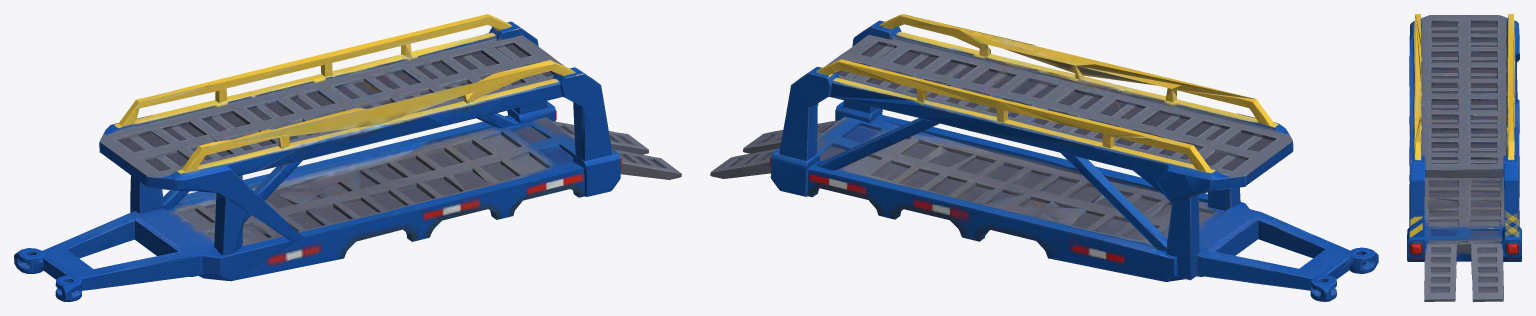
File: portacoches.glb
The picture shows the model from 3 angles, left to right: view 1: azimuth 30°, elevation 25°; view 2: azimuth 150°, elevation 25°; view 3: azimuth 270°, elevation 25°; orthographic projection. The views are drawn at different scales.
Size of the model in its own units: 1.9 by 0.4492 by 0.4145.
Materials: 1 (1 with a texture image).
